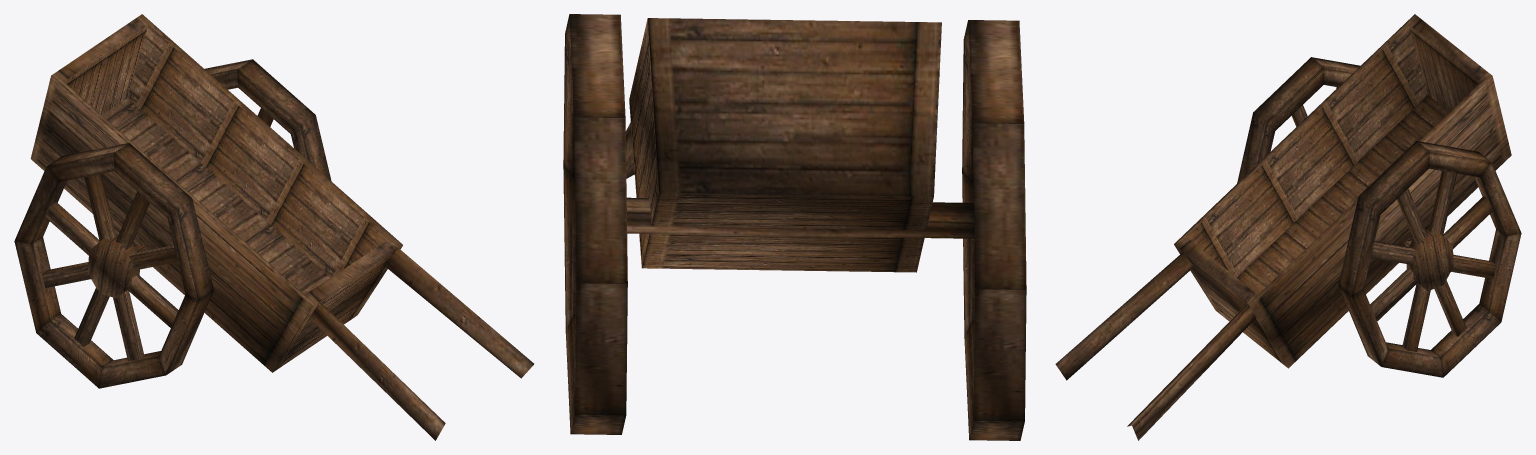
Rendered from cj_ferry_wagon.glb.
The picture shows the model from 3 angles, left to right: view 1: azimuth 30°, elevation 25°; view 2: azimuth 150°, elevation 25°; view 3: azimuth 270°, elevation 25°; orthographic projection. The views are drawn at different scales.
Visible parts, largest first — view 1: CJ_ferry_wagon; view 2: CJ_ferry_wagon; view 3: CJ_ferry_wagon.
Boxes of the visible parts, x1=… form: CJ_ferry_wagon: x1=14, y1=14, x2=533, y2=440; CJ_ferry_wagon: x1=563, y1=14, x2=1026, y2=440; CJ_ferry_wagon: x1=1055, y1=14, x2=1521, y2=440.
Bounding box in the file's own units: 3.13 × 2.21 × 3.45.
Materials: 1 (1 with a texture image).
